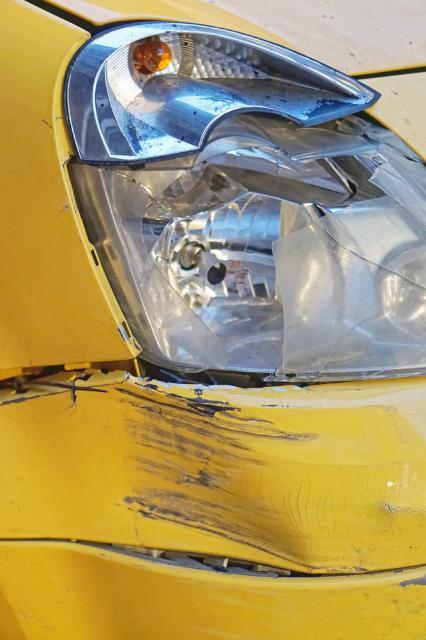dent: (0, 386, 307, 571)
dislocated part: (6, 529, 338, 590), (4, 348, 139, 415)
lamp broken: (69, 23, 426, 385)
scratch: (191, 394, 329, 445)
